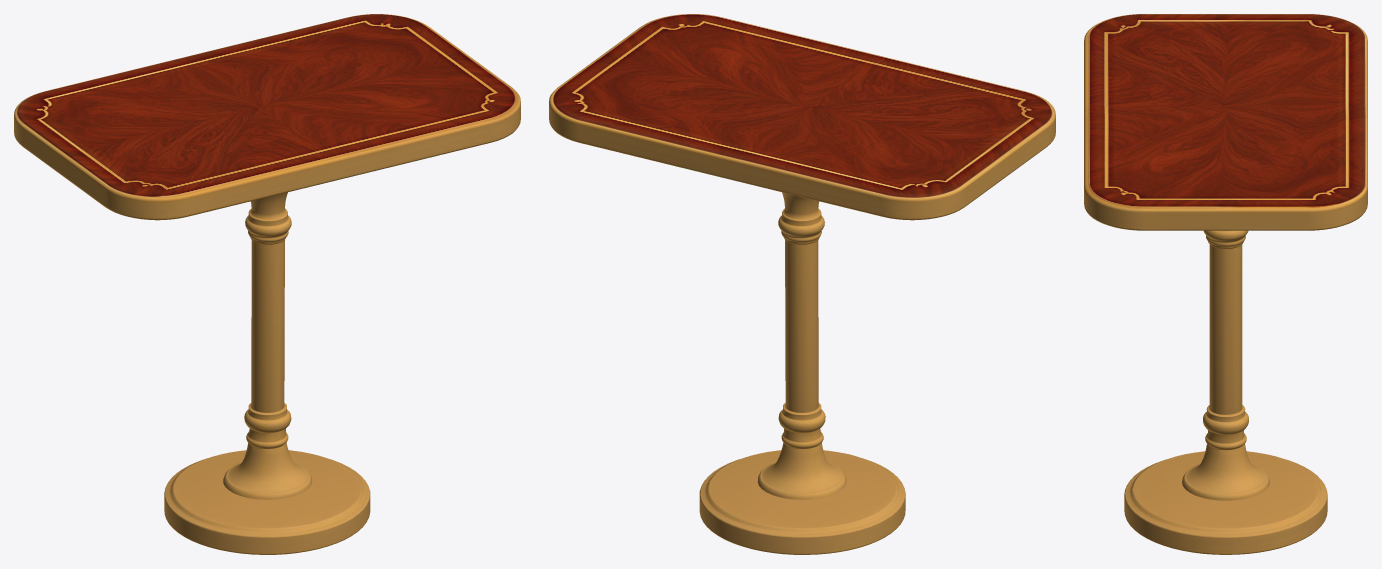
The model's file is first-class-table.glb.
3 renders of one model, left to right at view 1: azimuth 30°, elevation 25°; view 2: azimuth 150°, elevation 25°; view 3: azimuth 270°, elevation 25°, orthographic.
Visible parts, largest first — view 1: SM_BT_FirstClassTable; view 2: SM_BT_FirstClassTable; view 3: SM_BT_FirstClassTable.
Boxes of the visible parts, left/top/right/bottom form: SM_BT_FirstClassTable: left=14, top=14, right=520, bottom=554; SM_BT_FirstClassTable: left=549, top=14, right=1055, bottom=554; SM_BT_FirstClassTable: left=1084, top=14, right=1367, bottom=554.
Bounding box in the file's own units: 0.65 × 0.62 × 0.3966.
1 material, 1 textured.
